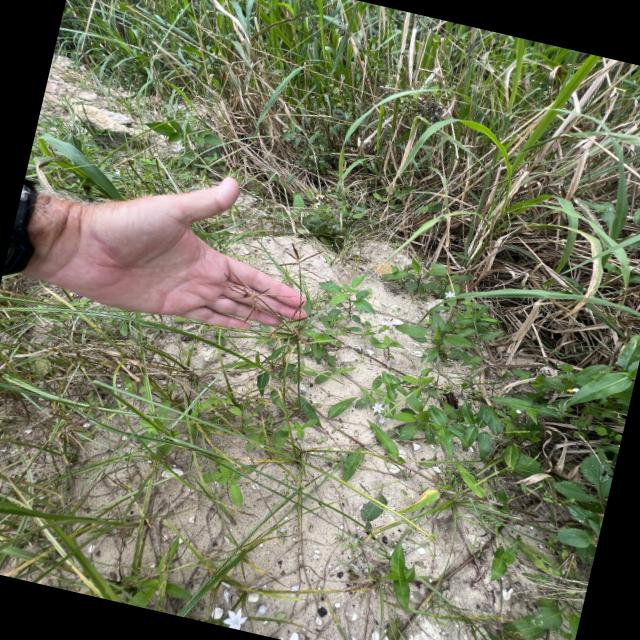cyperus: (216, 229, 336, 339)
